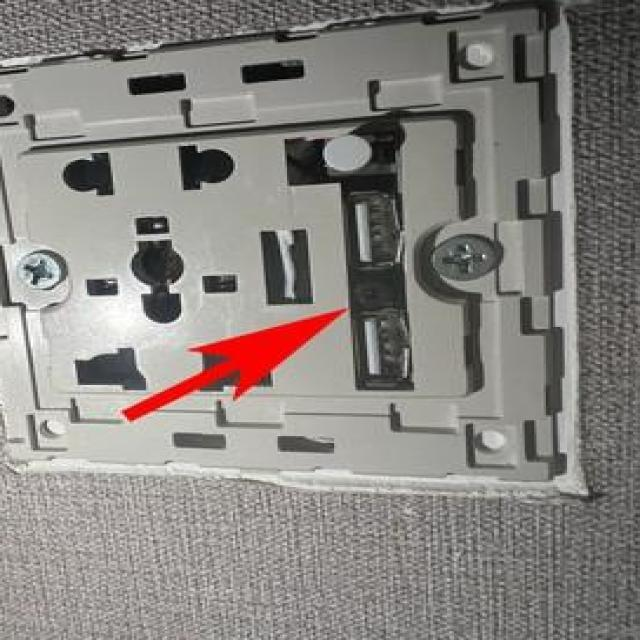hidden camera: (357, 286, 383, 303)
